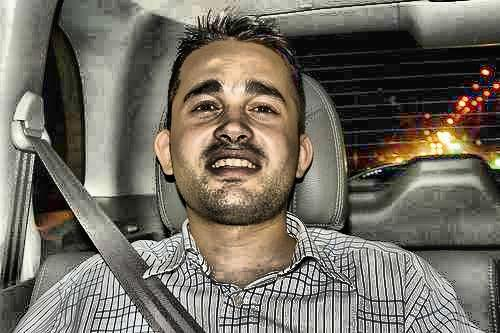seatbelt: (6, 112, 147, 296)
